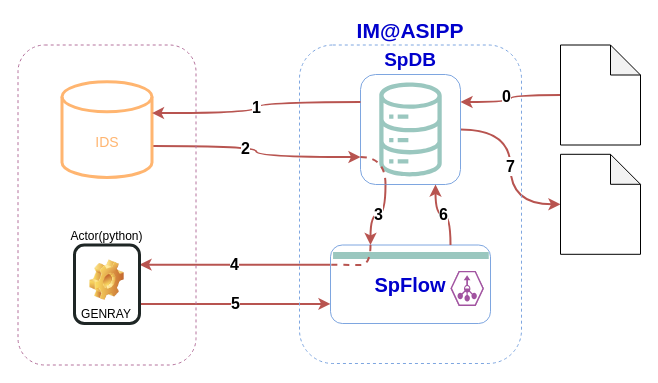
Some shapes in this 658 by 383 pixel diagram are drawn without their labels. The shapes that lost their labels are listed below. From the top down, each one's box as (x1, y1, x2, y2) in pixels, then its label:
(560, 44, 640, 145): GEQdsk File
(17, 44, 196, 365): IMAS
(560, 153, 640, 254): Output Files
